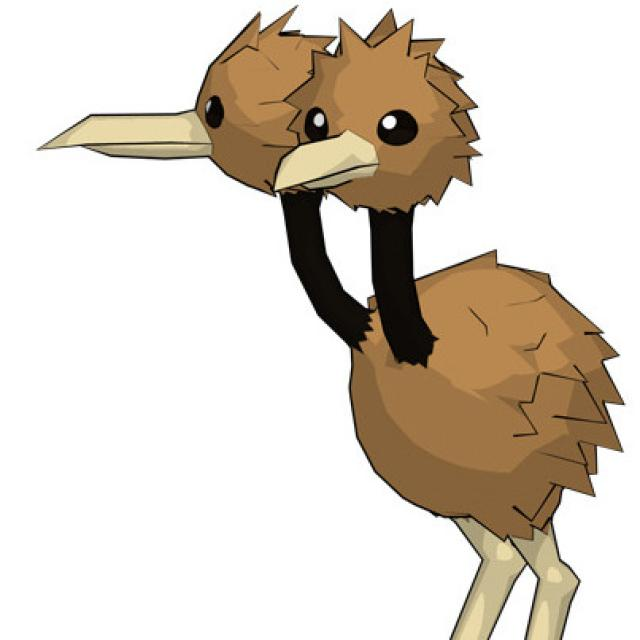Doduo: (36, 8, 626, 640)
